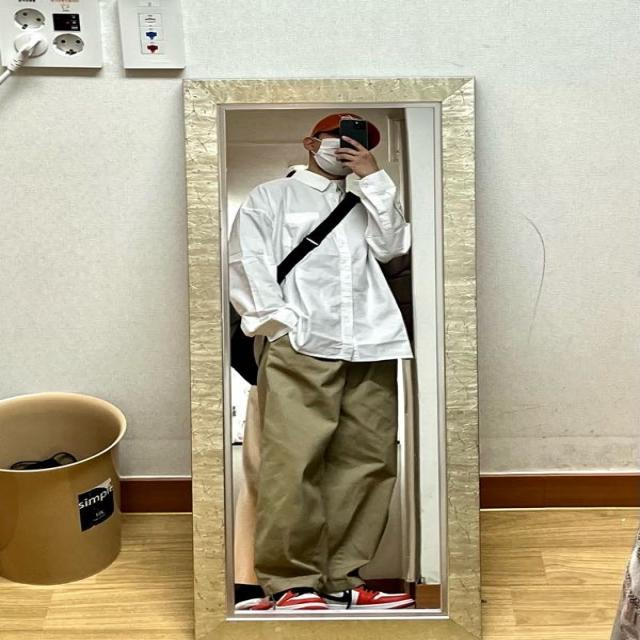cottonpants: (244, 317, 399, 593)
shirt: (233, 167, 412, 366)
